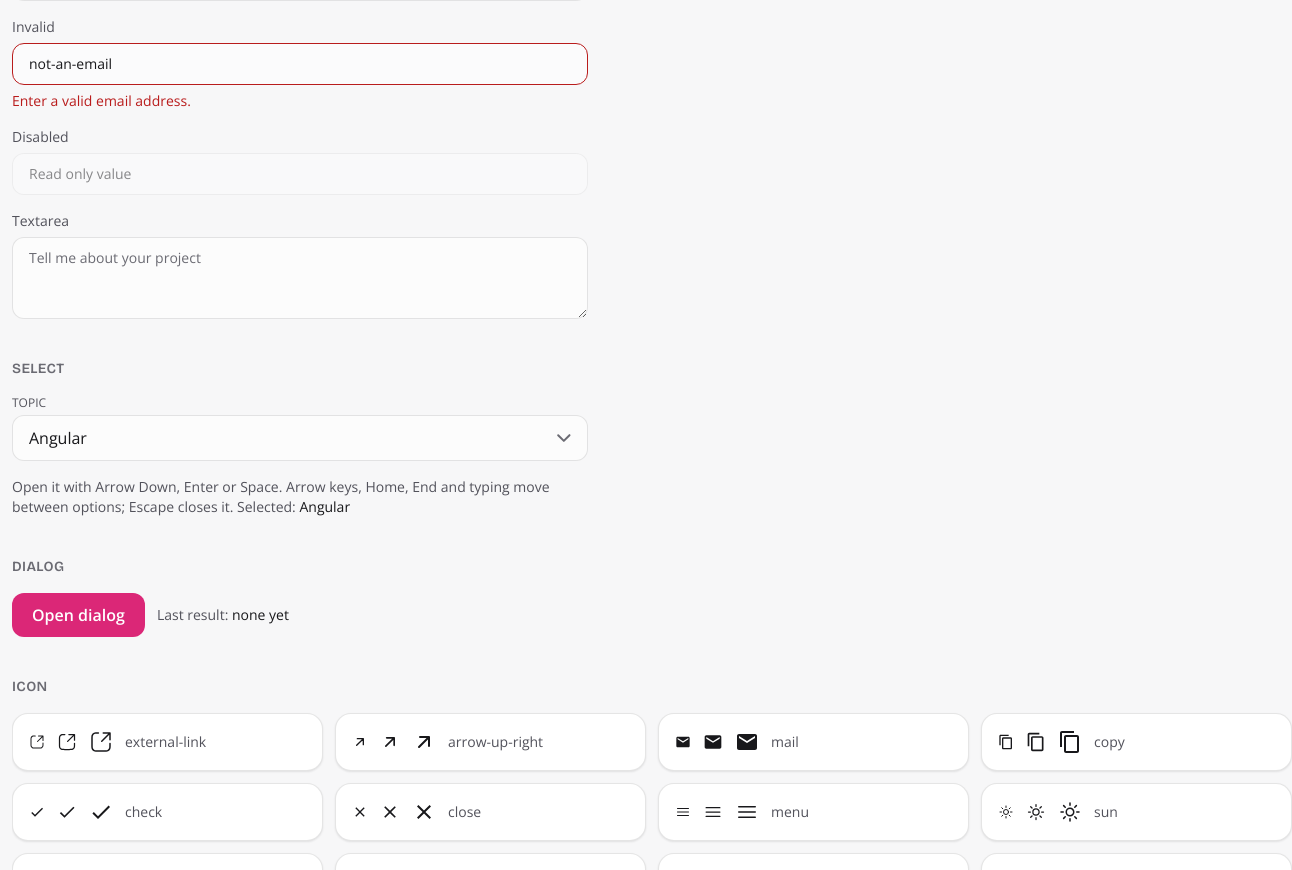
Scenario: UiKitComponent › select and dialog demos › changes the selected topic from the select
(page scrolled)
Click the button "Angular". click: [58, 438]
box: [12, 415, 588, 461]
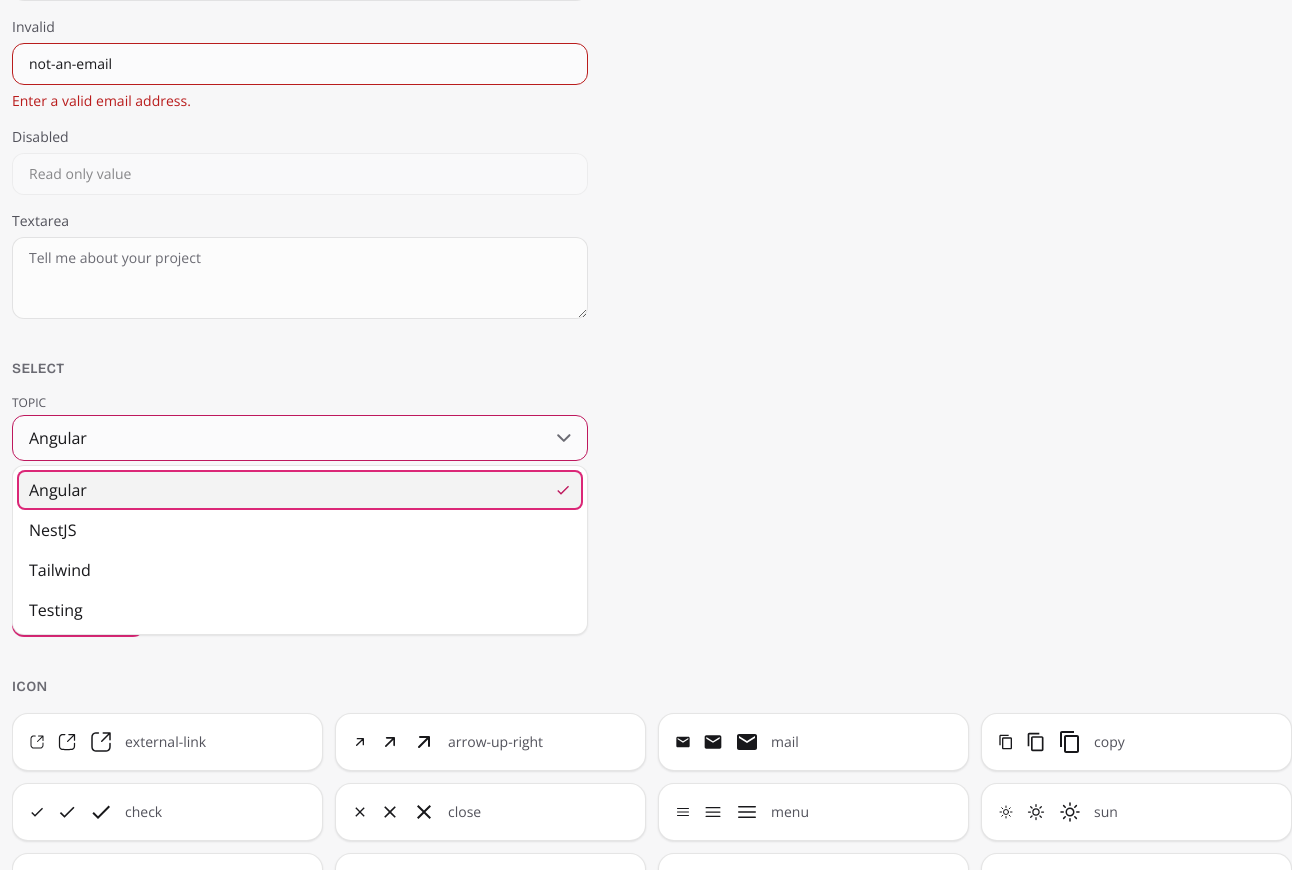
Click the option "NestJS". click: [53, 530]
box: [29, 519, 76, 541]
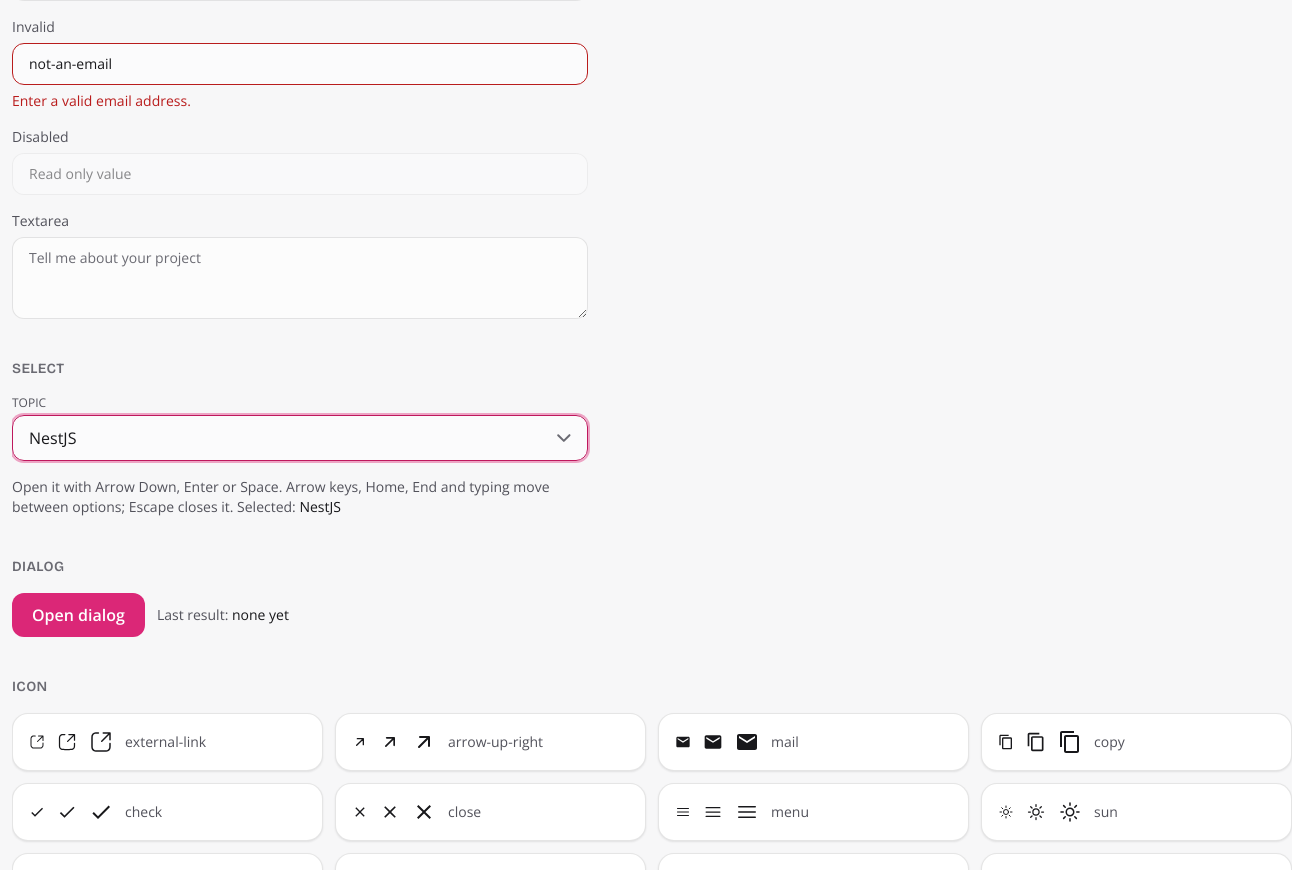
expect the button "NestJS" is shown: met, box [12, 415, 588, 461]
expect the text "Selected: NestJS" is shown: met, box [12, 477, 588, 517]
